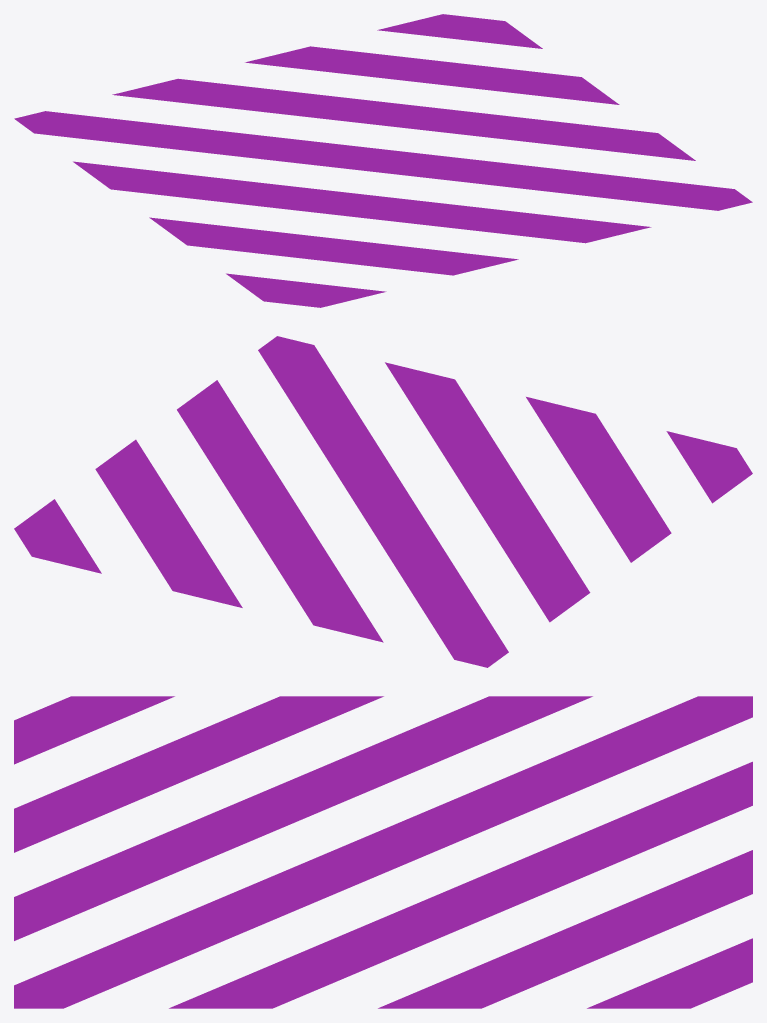
File: Button_PurpleDiagonalDown.glb
The picture shows the model from 3 angles, top to bottom: view 1: azimuth 30°, elevation 25°; view 2: azimuth 150°, elevation 25°; view 3: azimuth 270°, elevation 25°; orthographic projection. The views are drawn at different scales.
Visible parts, largest first — view 1: indicator-special-lines.005; view 2: indicator-special-lines.005; view 3: indicator-special-lines.005.
Boxes of the visible parts, x1,y1,x2,y2 form: indicator-special-lines.005: [14, 14, 752, 307]; indicator-special-lines.005: [14, 336, 752, 667]; indicator-special-lines.005: [14, 696, 752, 1008].
Size of the model in its own units: 1 by 0 by 1.
